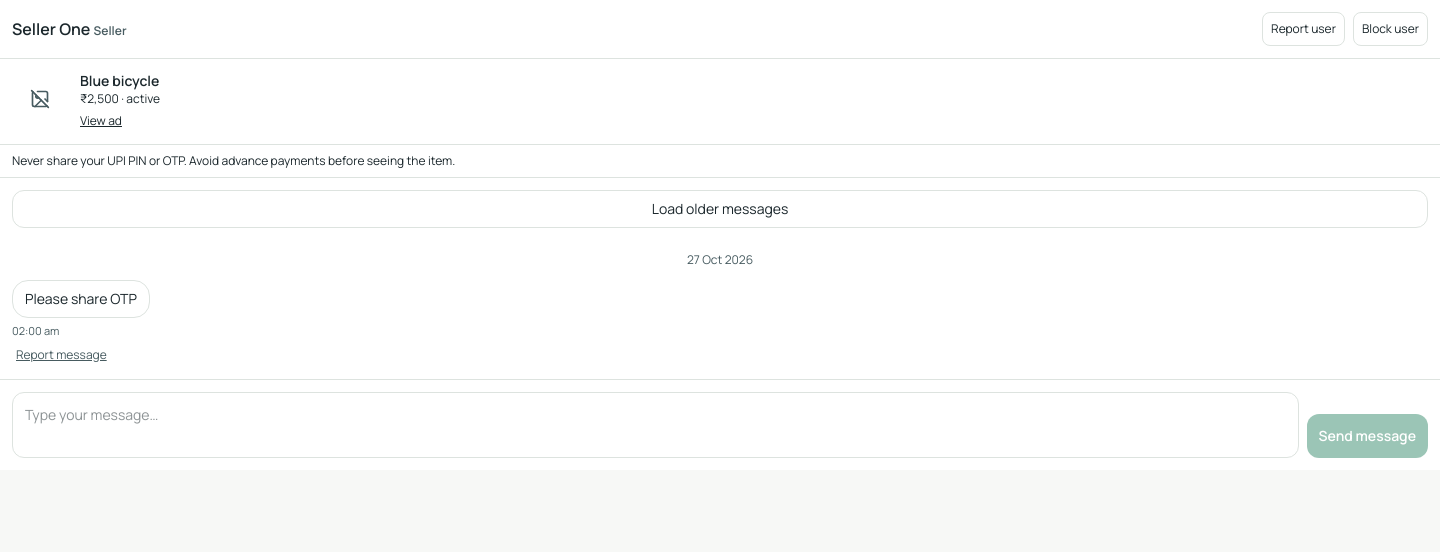
Test: loads older messages with the full cursor and keeps them chronological
The image size is (1440, 552).
Click the button "Load older messages" at (720, 209), box [12,190,1428,228]
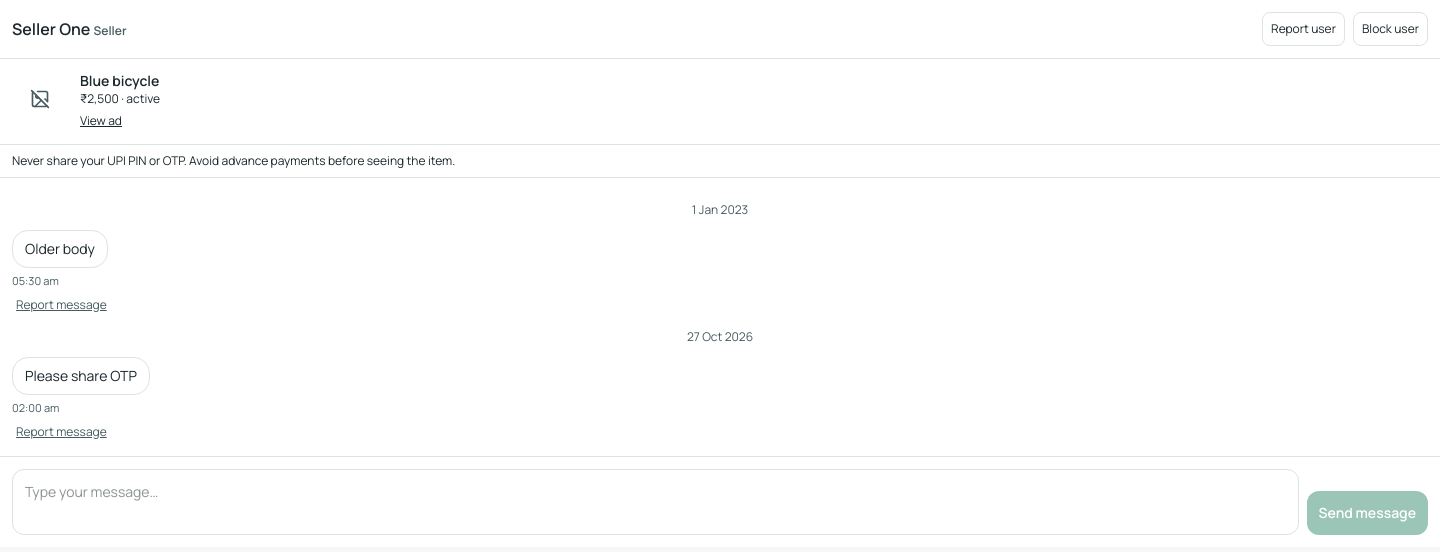
expect the text "Older body" is shown: met, box [12,230,108,268]
expect the text "1 Jan 2023" is shown: met, box [692,201,748,218]
